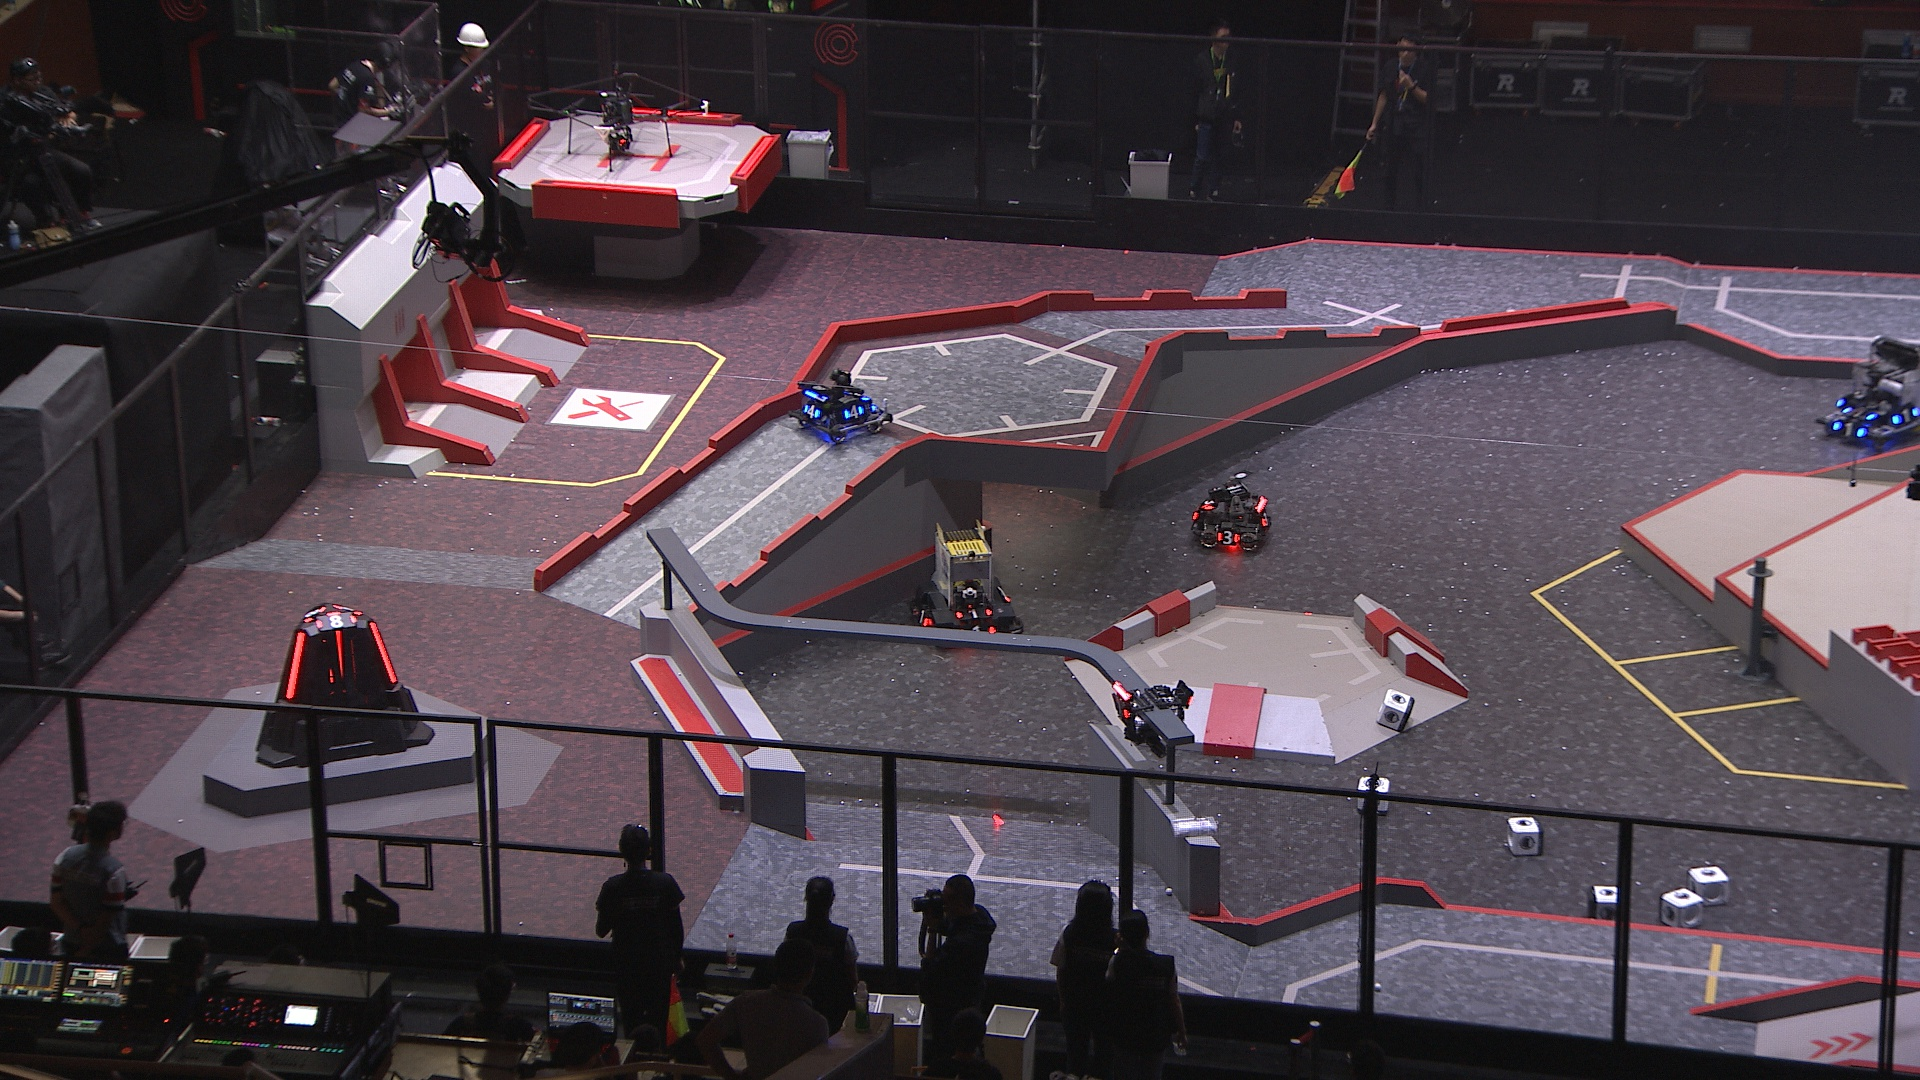armor: (363, 618, 398, 688), (282, 626, 309, 702), (313, 609, 357, 629), (1832, 418, 1869, 439), (1842, 404, 1879, 422), (1890, 405, 1920, 427), (332, 626, 345, 676), (953, 605, 993, 621), (1109, 694, 1133, 719), (1215, 527, 1242, 549), (800, 400, 823, 422), (299, 605, 320, 626), (915, 604, 932, 629), (967, 622, 996, 636), (1199, 495, 1218, 513), (843, 404, 864, 419), (338, 605, 363, 617)
base: (252, 599, 438, 770)
car: (911, 520, 1031, 647), (1813, 332, 1920, 447), (790, 368, 891, 451), (1188, 469, 1275, 553)
watcher: (1105, 679, 1196, 760)
